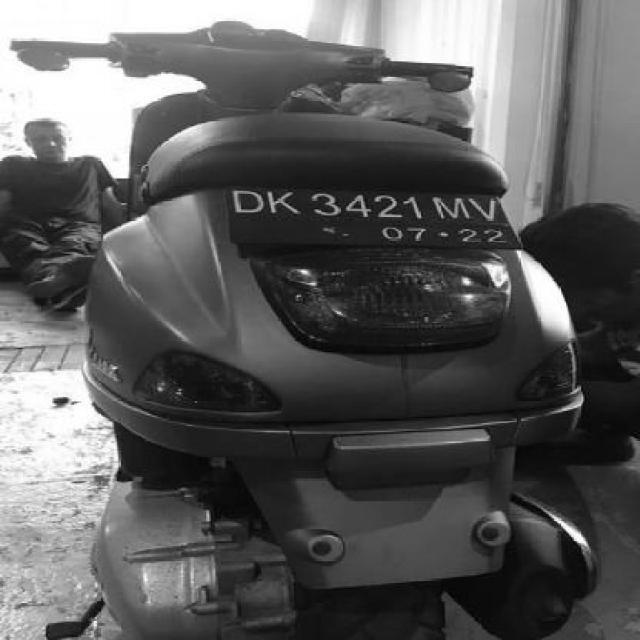1: (403, 190, 424, 222)
2: (374, 190, 400, 224)
3: (311, 188, 339, 226)
4: (347, 191, 369, 224)
D: (228, 186, 266, 220)
K: (266, 186, 302, 222)
M: (431, 193, 468, 229)
V: (466, 192, 506, 220)
